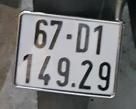1: (21, 53, 36, 84), (93, 21, 104, 56)
2: (78, 59, 93, 91)
4: (36, 53, 54, 87)
6: (33, 16, 49, 52)
7: (50, 17, 64, 51)
9: (96, 57, 112, 95), (56, 53, 71, 88)
D: (74, 22, 92, 55)
